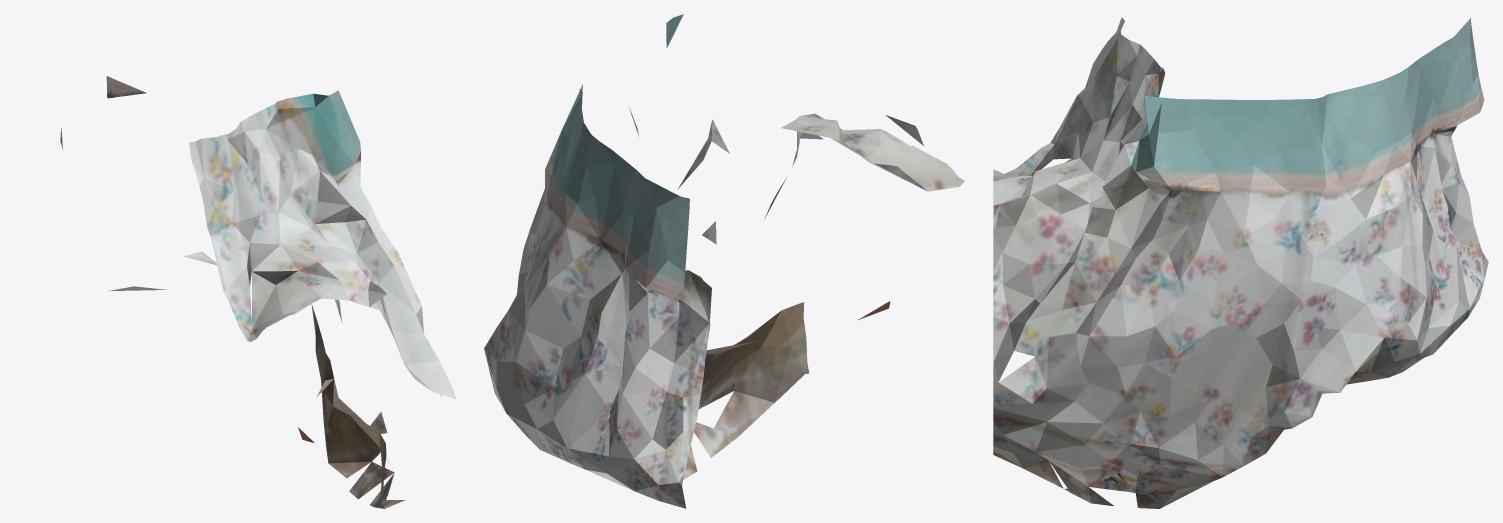
3 views of the same model, side by side, from view 1: azimuth 30°, elevation 25°; view 2: azimuth 150°, elevation 25°; view 3: azimuth 270°, elevation 25° (orthographic). The views are drawn at different scales.
Size of the model in its own units: 213 by 350 by 384.
1 material, 1 textured.
